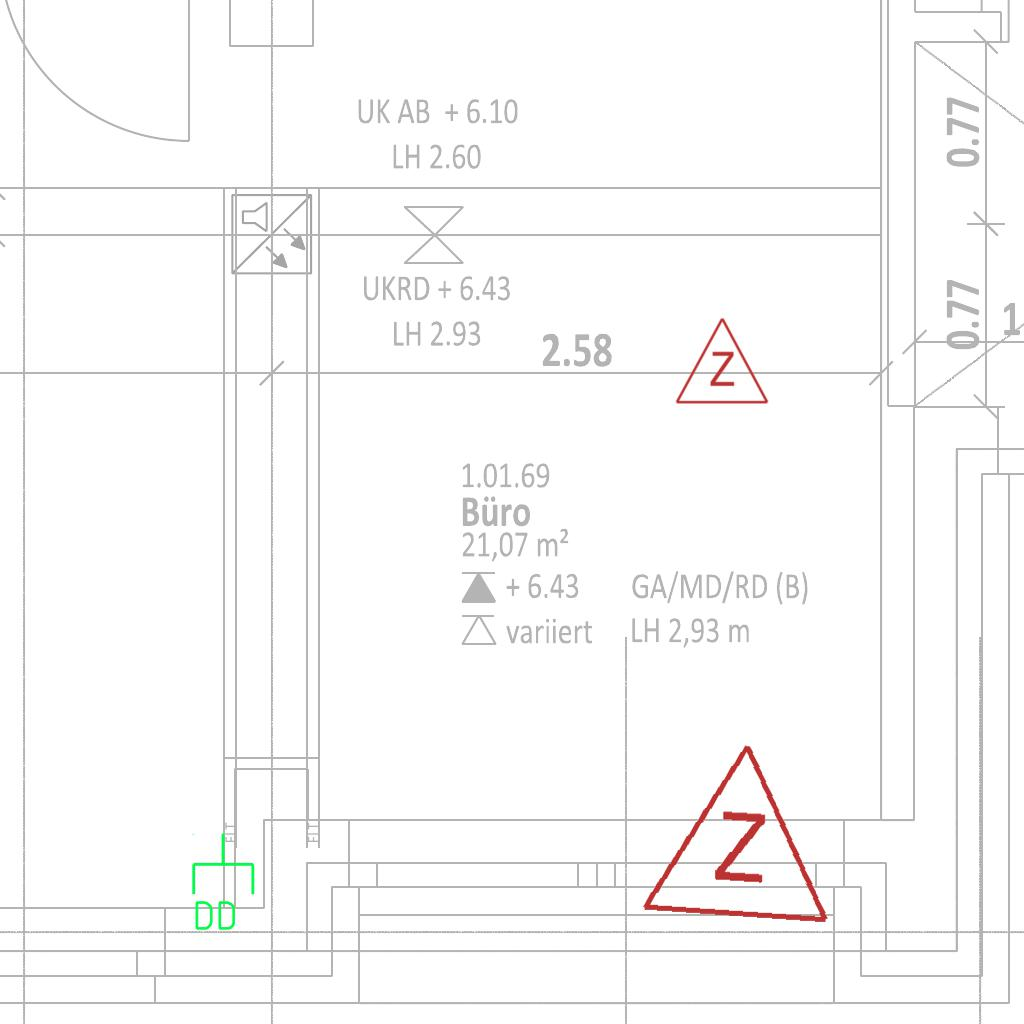Datenanschluss_zweifach: (188, 831, 257, 934)
Zimmersignalleuchte: (634, 724, 844, 938), (672, 311, 770, 411)
